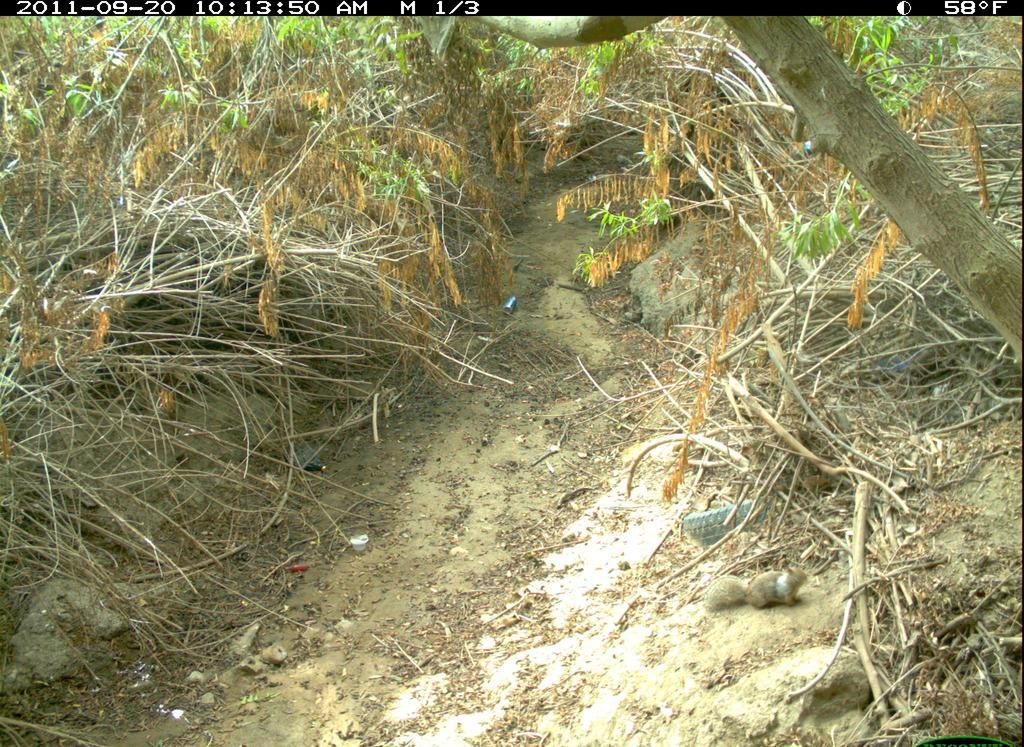squirrel: (699, 562, 812, 617)
